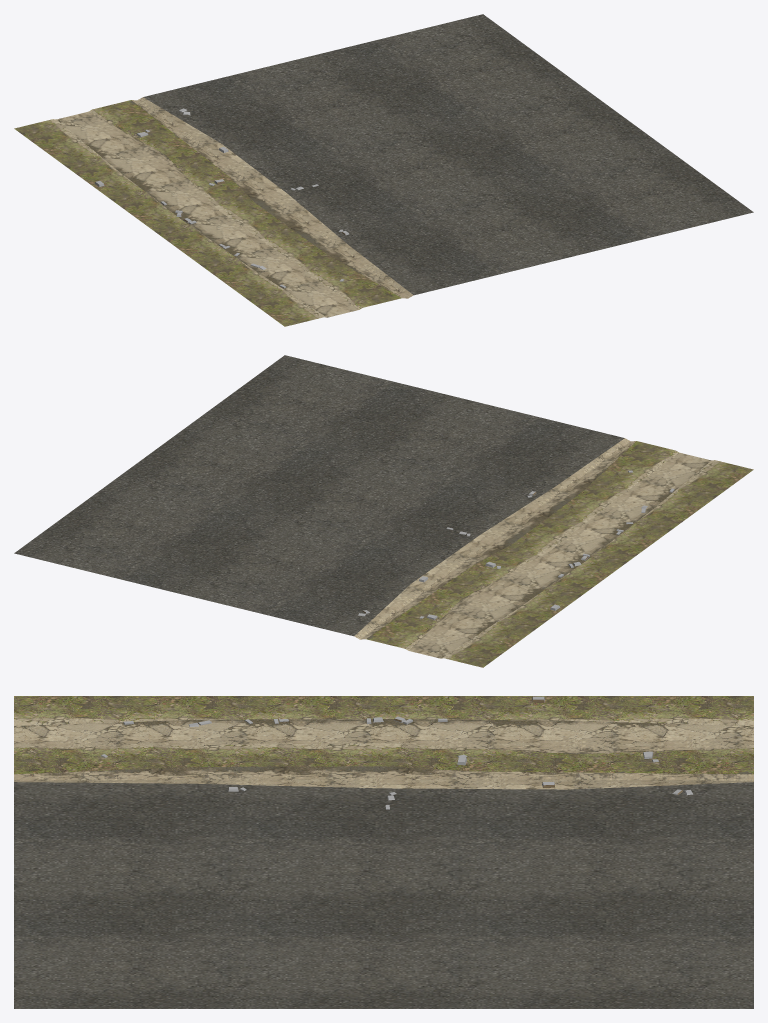
Rendered from bz_road_pavement_03.fbx.
3 renders of one model, top to bottom at view 1: azimuth 30°, elevation 25°; view 2: azimuth 150°, elevation 25°; view 3: azimuth 270°, elevation 25°, orthographic. The views are drawn at different scales.
Visible parts, largest first — view 1: bz_road_03; view 2: bz_road_03; view 3: bz_road_03.
Boxes of the visible parts, x1,y1,x2,y2 form: bz_road_03: (14, 14, 753, 326); bz_road_03: (14, 355, 753, 667); bz_road_03: (14, 696, 753, 1008).
Size of the model in its own units: 8 by 0.0838 by 8.
